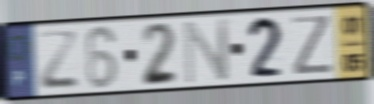2: (244, 14, 288, 82), (139, 20, 180, 88)
6: (83, 23, 122, 92)
N: (182, 16, 232, 87)
Z: (290, 13, 336, 77), (36, 30, 81, 92)
